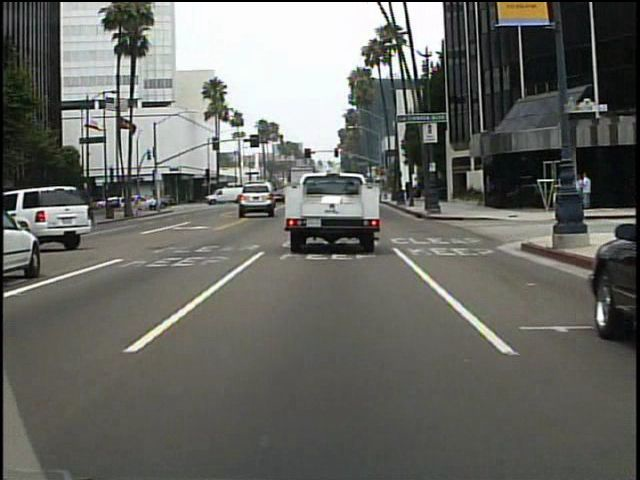person: (578, 169, 594, 211), (572, 173, 585, 216), (148, 191, 161, 217)
